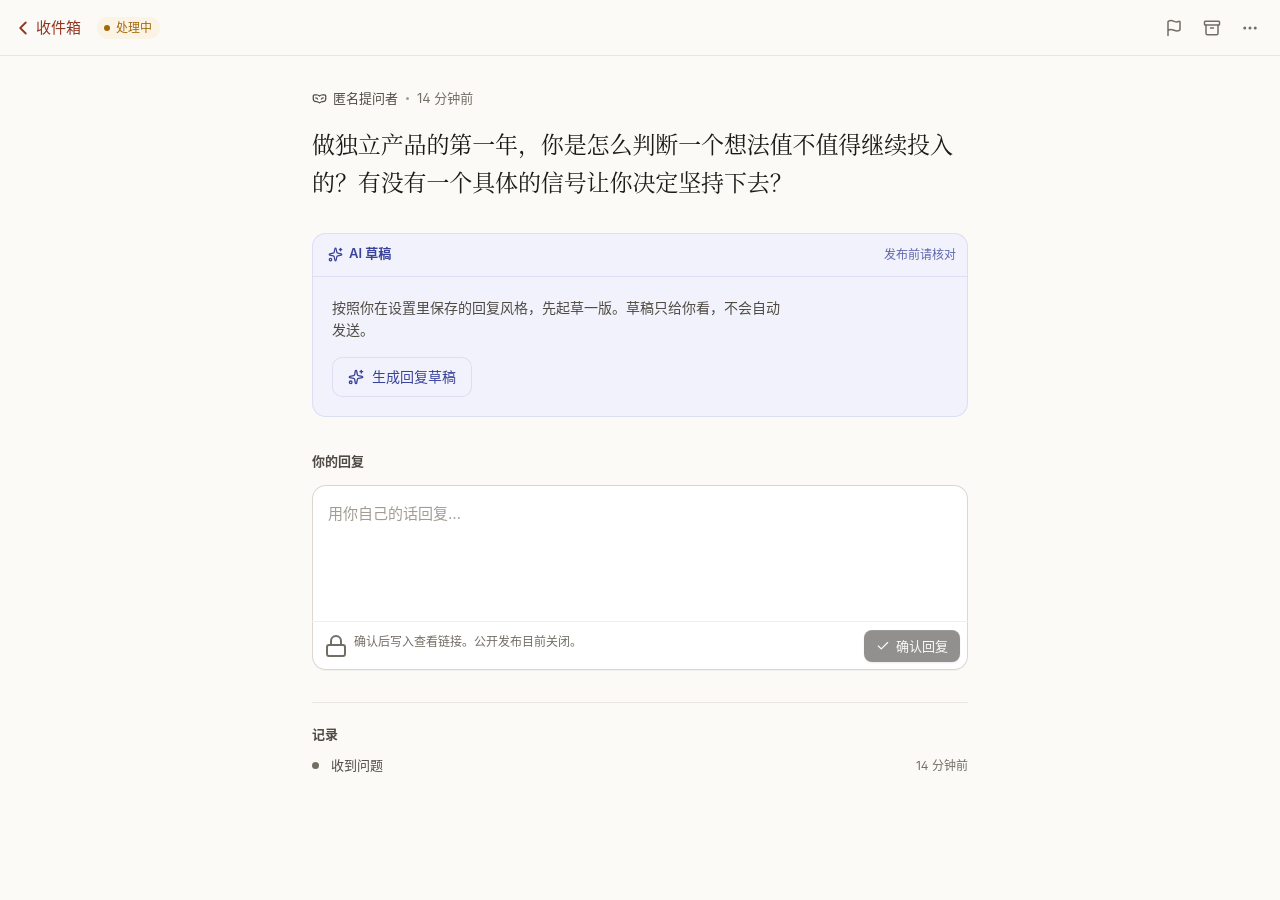
question detail › asks before marking a question as spam
Expected: the text "做独立产品的第一年，你是怎么判断一个想法值不值得继续投入的？有没有一个具体的信号让你决定坚持下去？" is shown, [312,125,968,201]
Click the button named "更多操作".
click(1250, 28)  # box [1232,10,1268,46]
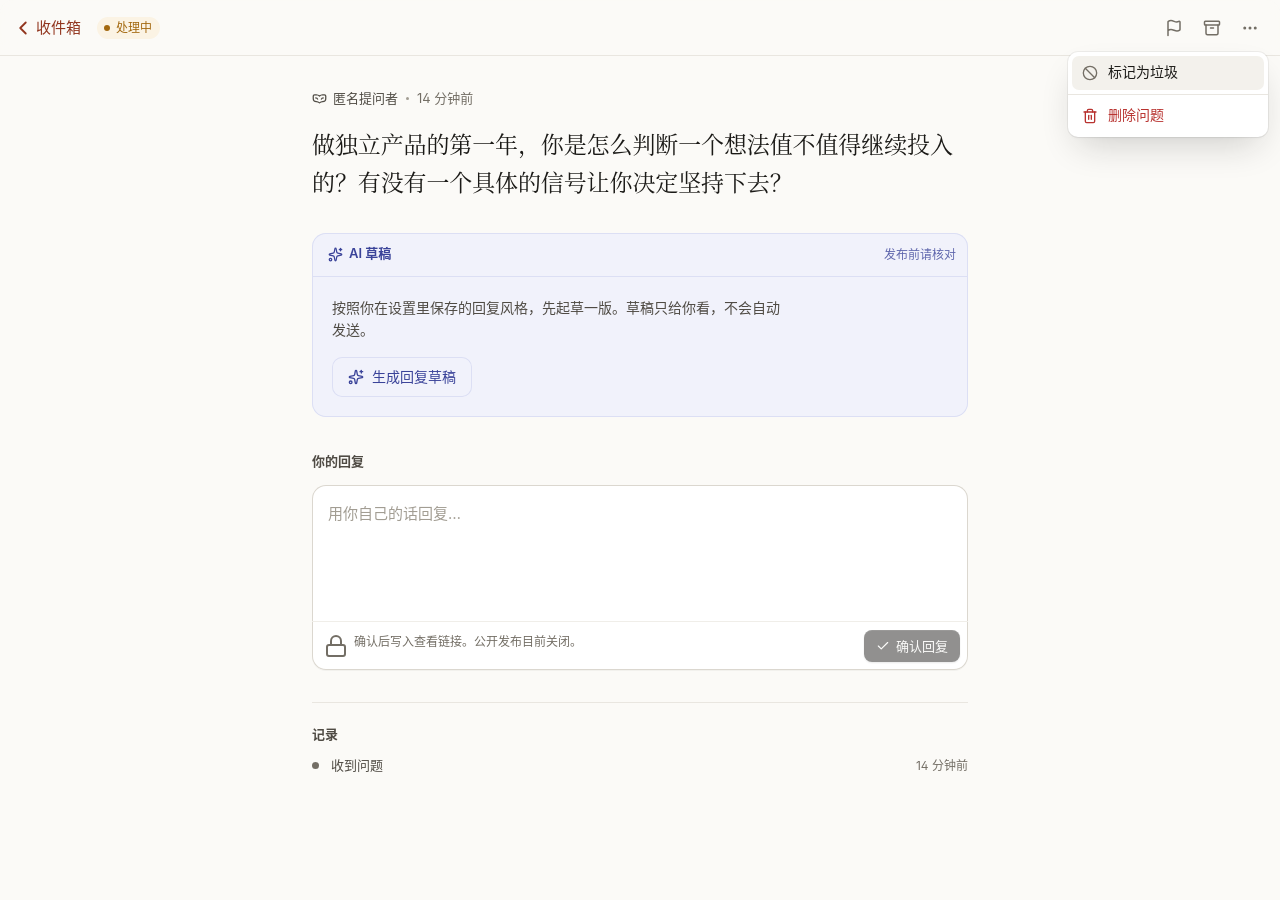
Click the menu item "标记为垃圾".
click(1168, 72)  # box [1072,56,1264,90]
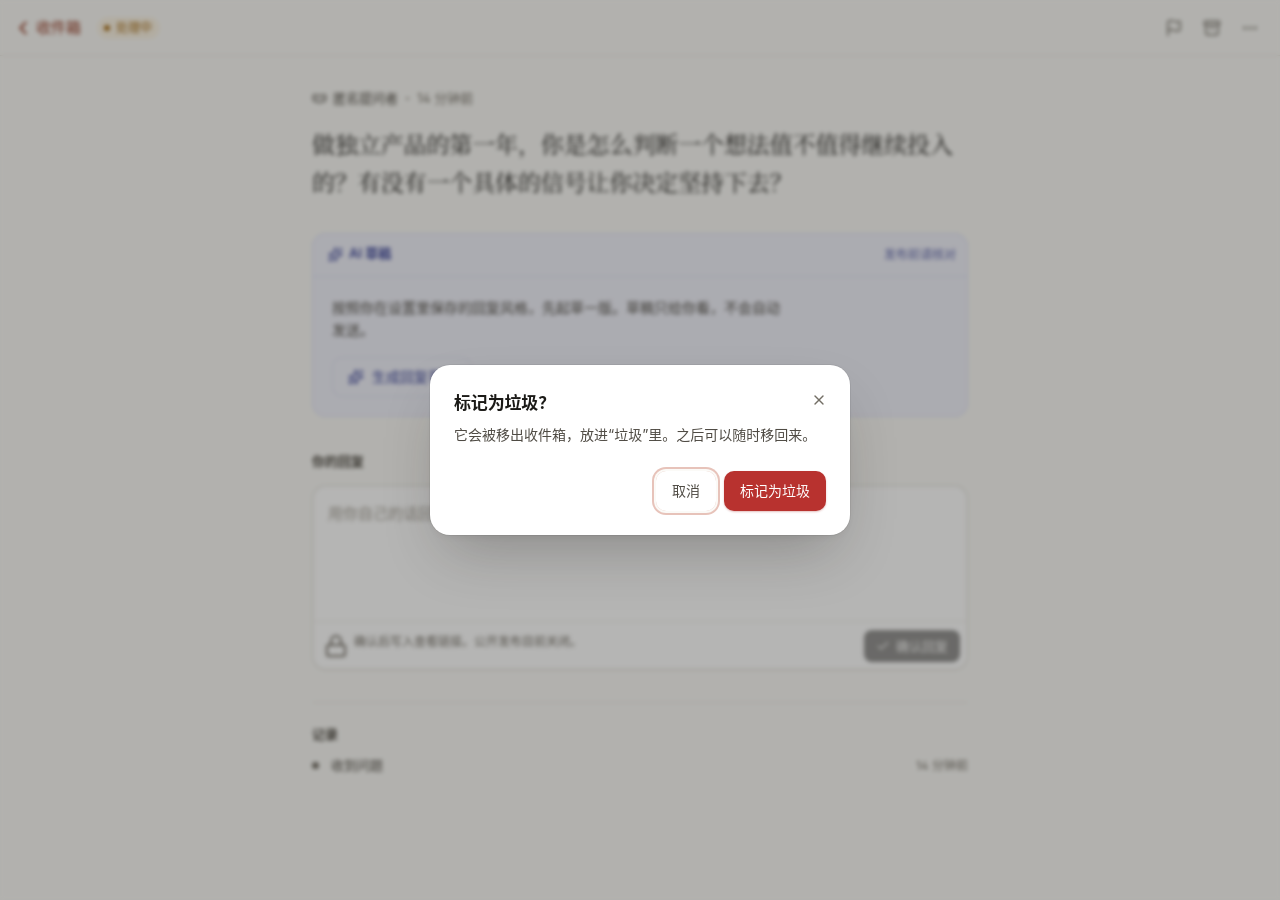
Click the button "取消".
click(686, 491)  # box [656,471,716,511]
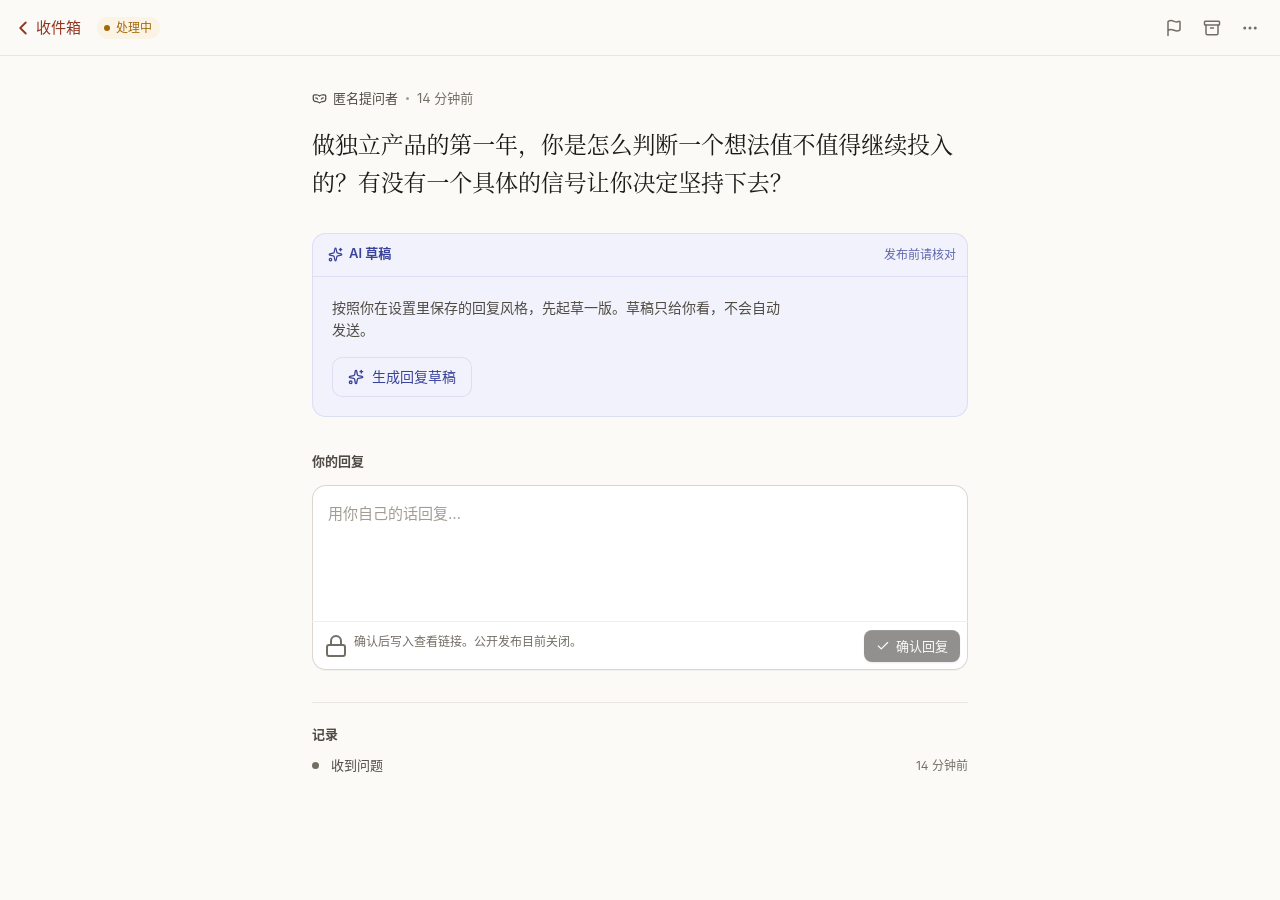
Expected: the dialog is gone
